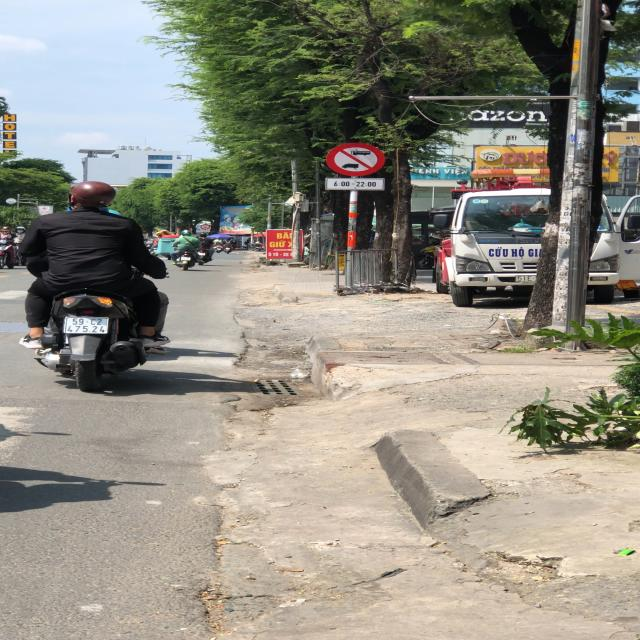Bien bao cam xe oto khach va xe oto tai: (320, 142, 385, 175)
